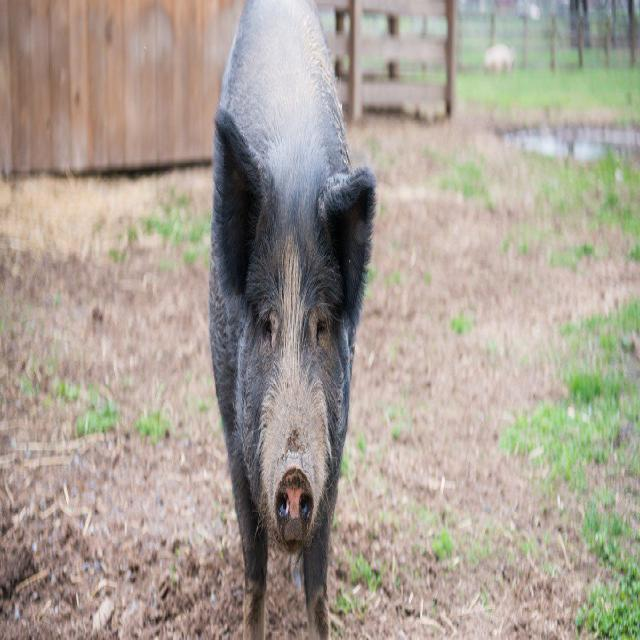Pig: (201, 0, 381, 640)
